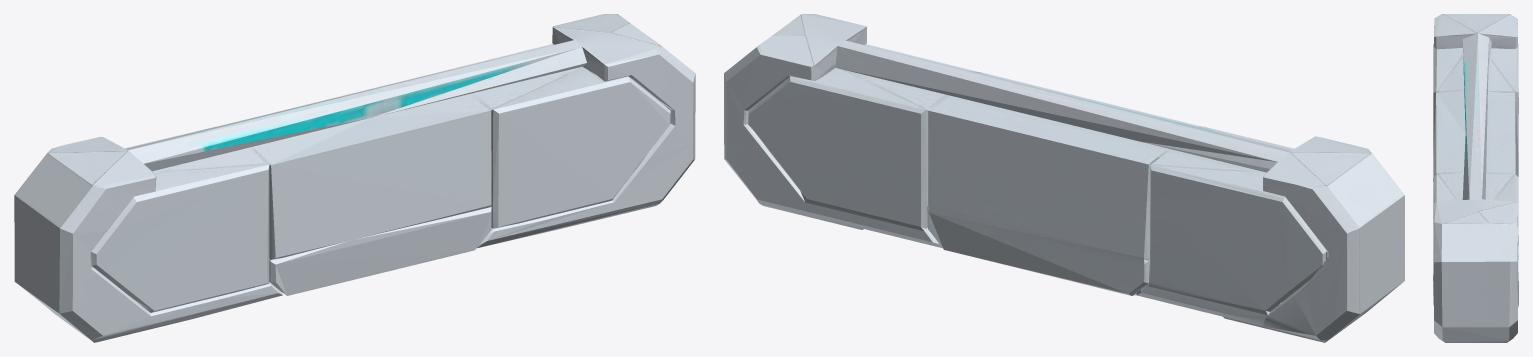
The model's file is barrier.glb.
3 views of the same model, side by side, from view 1: azimuth 30°, elevation 25°; view 2: azimuth 150°, elevation 25°; view 3: azimuth 270°, elevation 25° (orthographic). The views are drawn at different scales.
Size of the model in its own units: 1.9 by 0.4664 by 0.2941.
Materials: 1 (1 with a texture image).
